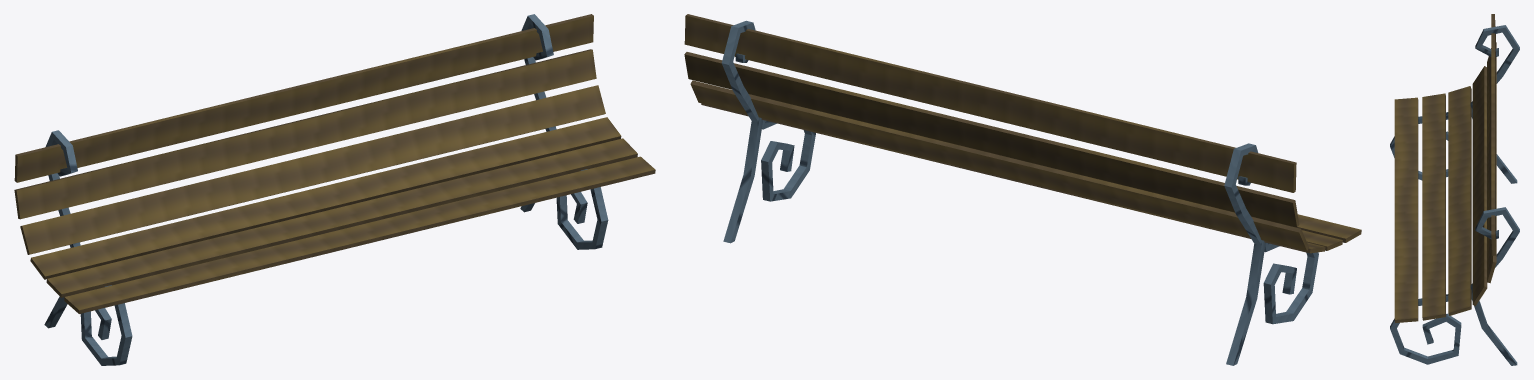
Rendered from bench.glb.
3 views of the same model, side by side, from view 1: azimuth 30°, elevation 25°; view 2: azimuth 150°, elevation 25°; view 3: azimuth 270°, elevation 25° (orthographic). The views are drawn at different scales.
Parts seen in each view (by area): view 1: stktex_generic_WoodA.png__, stk_metalRustedBlue_a.png__; view 2: stktex_generic_WoodA.png__, stk_metalRustedBlue_a.png__; view 3: stktex_generic_WoodA.png__, stk_metalRustedBlue_a.png__.
Boxes of the visible parts, left/top/right/bottom form: stktex_generic_WoodA.png__: left=14, top=14, right=655, bottom=313; stk_metalRustedBlue_a.png__: left=44, top=14, right=608, bottom=365; stktex_generic_WoodA.png__: left=684, top=14, right=1361, bottom=253; stk_metalRustedBlue_a.png__: left=721, top=20, right=1318, bottom=365; stktex_generic_WoodA.png__: left=1394, top=14, right=1496, bottom=322; stk_metalRustedBlue_a.png__: left=1390, top=25, right=1519, bottom=365.
Size of the model in its own units: 5.47 by 1.81 by 1.36.
Materials: 2 (2 with a texture image).
